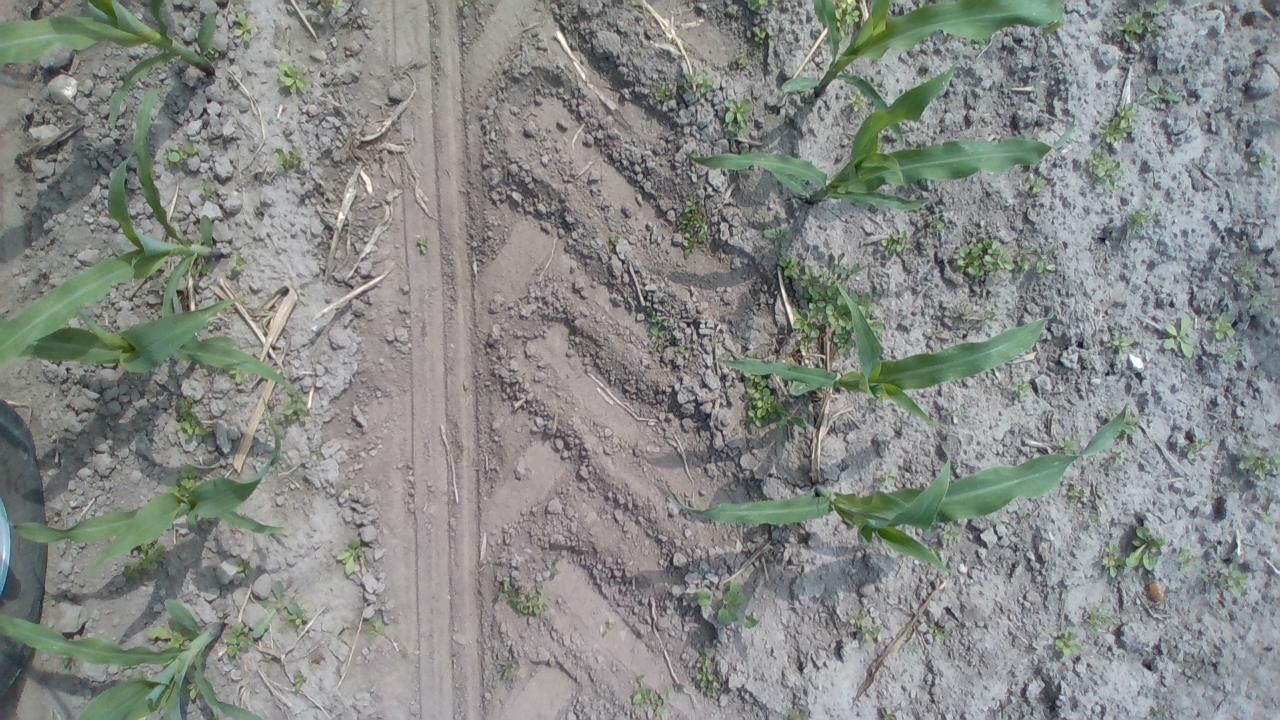Maize: (665, 387, 1133, 576), (0, 86, 225, 371), (685, 59, 1078, 213), (0, 393, 287, 580), (714, 274, 1055, 427), (780, 0, 1066, 144), (0, 600, 262, 720), (21, 308, 312, 410), (2, 0, 219, 133)
Weeds: (792, 254, 886, 353), (742, 374, 806, 432), (251, 580, 303, 644), (696, 583, 760, 631), (951, 236, 1016, 280), (494, 568, 548, 618), (673, 192, 709, 260), (628, 674, 671, 720), (1099, 101, 1141, 145), (1126, 524, 1164, 572), (121, 546, 169, 581), (1084, 594, 1122, 638), (692, 646, 722, 698), (172, 394, 208, 437), (1236, 448, 1280, 483), (1163, 314, 1196, 359), (1117, 10, 1159, 44), (1085, 153, 1121, 192), (1139, 76, 1183, 107), (643, 306, 675, 344), (337, 532, 363, 576), (161, 140, 199, 170), (1218, 561, 1247, 599), (277, 58, 307, 94), (721, 96, 751, 132), (148, 623, 192, 647), (1100, 540, 1126, 580), (278, 392, 308, 426), (225, 620, 251, 658), (1114, 364, 1147, 393), (1204, 311, 1236, 340), (879, 229, 912, 256), (1106, 328, 1136, 357), (1053, 630, 1082, 659), (684, 68, 713, 96), (837, 0, 858, 38), (1184, 434, 1212, 462), (273, 144, 302, 170), (1128, 206, 1154, 234), (1014, 242, 1036, 272), (234, 12, 254, 44), (1064, 482, 1084, 513), (1231, 264, 1259, 286), (362, 614, 383, 643), (778, 251, 800, 278), (1247, 285, 1271, 309), (1178, 541, 1196, 572), (1025, 174, 1050, 196), (1248, 148, 1272, 170), (937, 524, 961, 546), (1121, 412, 1143, 436), (1009, 377, 1032, 399), (652, 82, 672, 106), (1058, 434, 1082, 454), (496, 654, 514, 680), (178, 462, 196, 488), (880, 464, 900, 487), (924, 622, 946, 642), (310, 0, 346, 12), (734, 45, 750, 70), (860, 625, 880, 645), (924, 214, 946, 232), (1035, 258, 1057, 276), (1221, 342, 1239, 364), (225, 251, 242, 274), (762, 228, 789, 242), (784, 706, 811, 720), (544, 557, 560, 580), (847, 90, 864, 111), (1109, 449, 1124, 472), (289, 609, 307, 628), (235, 556, 252, 576), (294, 670, 308, 694), (982, 306, 998, 326), (1085, 512, 1101, 530), (746, 482, 763, 498), (752, 27, 767, 45), (848, 613, 866, 628), (186, 684, 199, 704), (310, 446, 324, 464), (416, 237, 430, 255), (879, 708, 898, 720), (607, 231, 622, 246), (930, 547, 948, 559), (200, 262, 214, 277), (229, 369, 244, 383), (748, 0, 768, 10), (1154, 702, 1168, 716), (972, 39, 986, 52), (200, 185, 213, 199), (959, 308, 972, 322), (672, 682, 686, 694), (672, 344, 688, 354), (1154, 0, 1166, 13), (1016, 508, 1030, 518), (1260, 512, 1271, 524), (209, 46, 220, 57), (62, 658, 74, 668), (874, 398, 886, 408), (164, 268, 173, 278), (457, 0, 470, 5)
